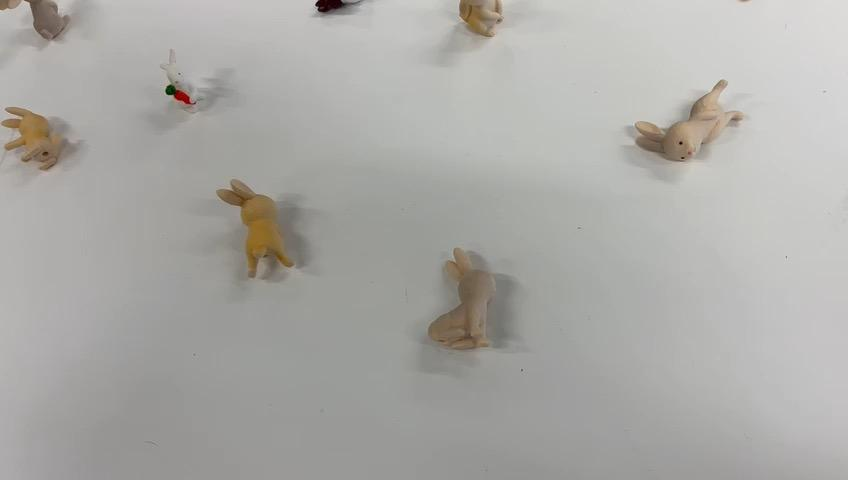pet: (620, 74, 757, 174), (215, 178, 306, 291), (422, 240, 504, 352), (0, 102, 93, 181), (148, 43, 233, 108)
